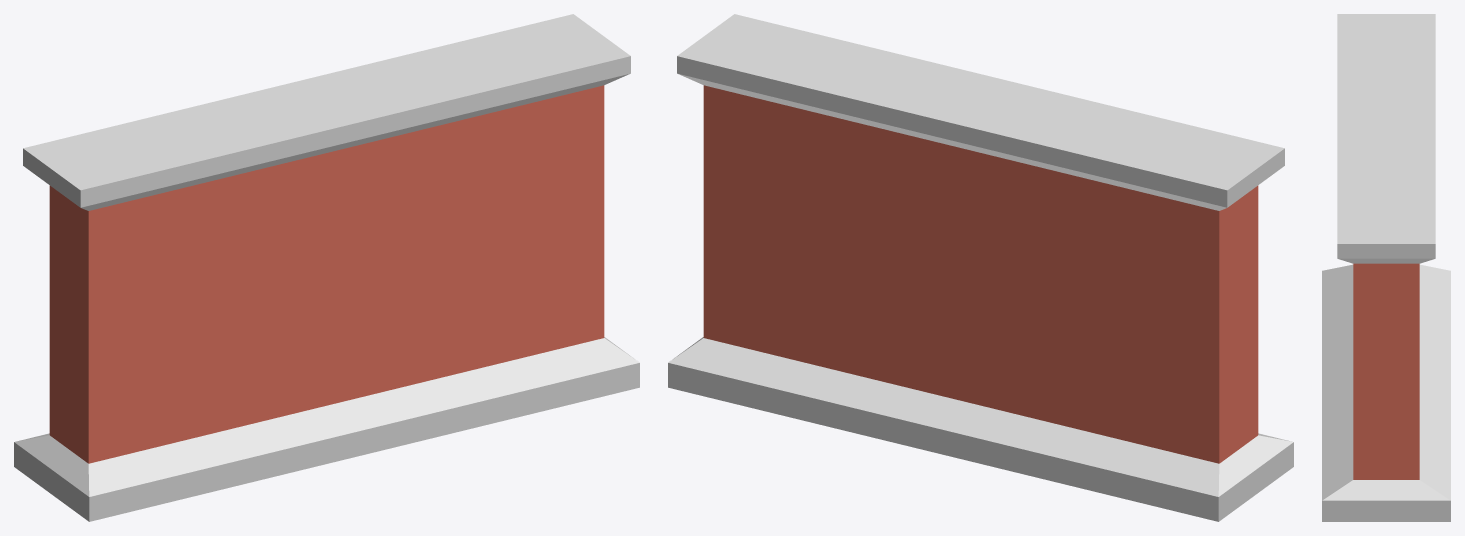
File: wall.fbx
3 renders of one model, left to right at view 1: azimuth 30°, elevation 25°; view 2: azimuth 150°, elevation 25°; view 3: azimuth 270°, elevation 25°, orthographic. The views are drawn at different scales.
Parts seen in each view (by area): view 1: Cube; view 2: Cube; view 3: Cube.
Part boxes in pixels (x1,y1,x2,y2): Cube: (14, 14, 639, 521); Cube: (668, 14, 1293, 521); Cube: (1322, 14, 1450, 521).
Size of the model in its own units: 267 by 63.26 by 151.
